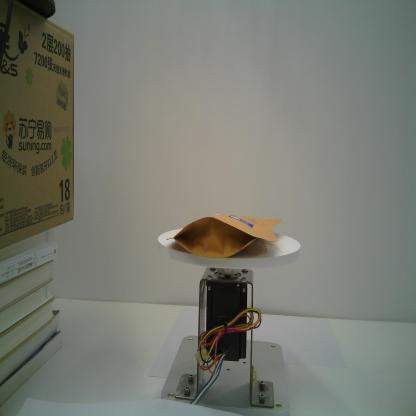Dried Fruit: (162, 212, 282, 260)
